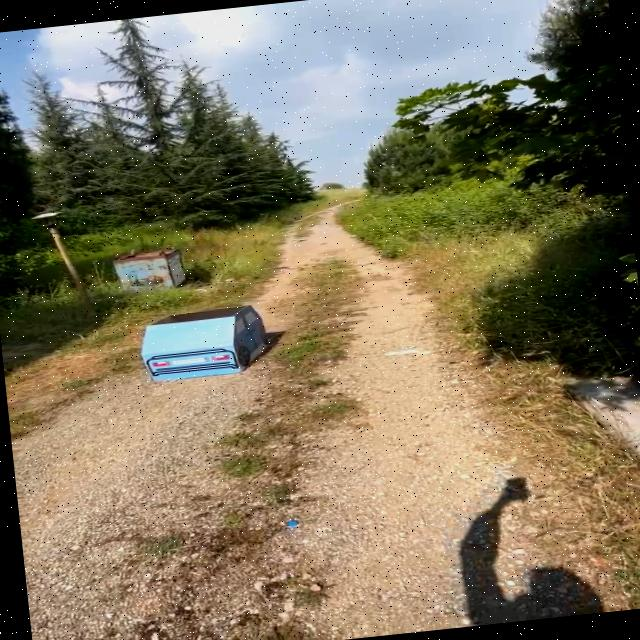blue_car: (122, 289, 316, 403)
